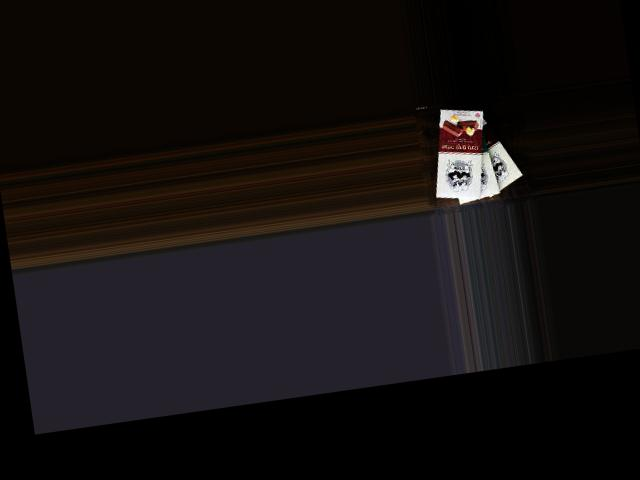chocolate: (453, 99, 526, 203)
